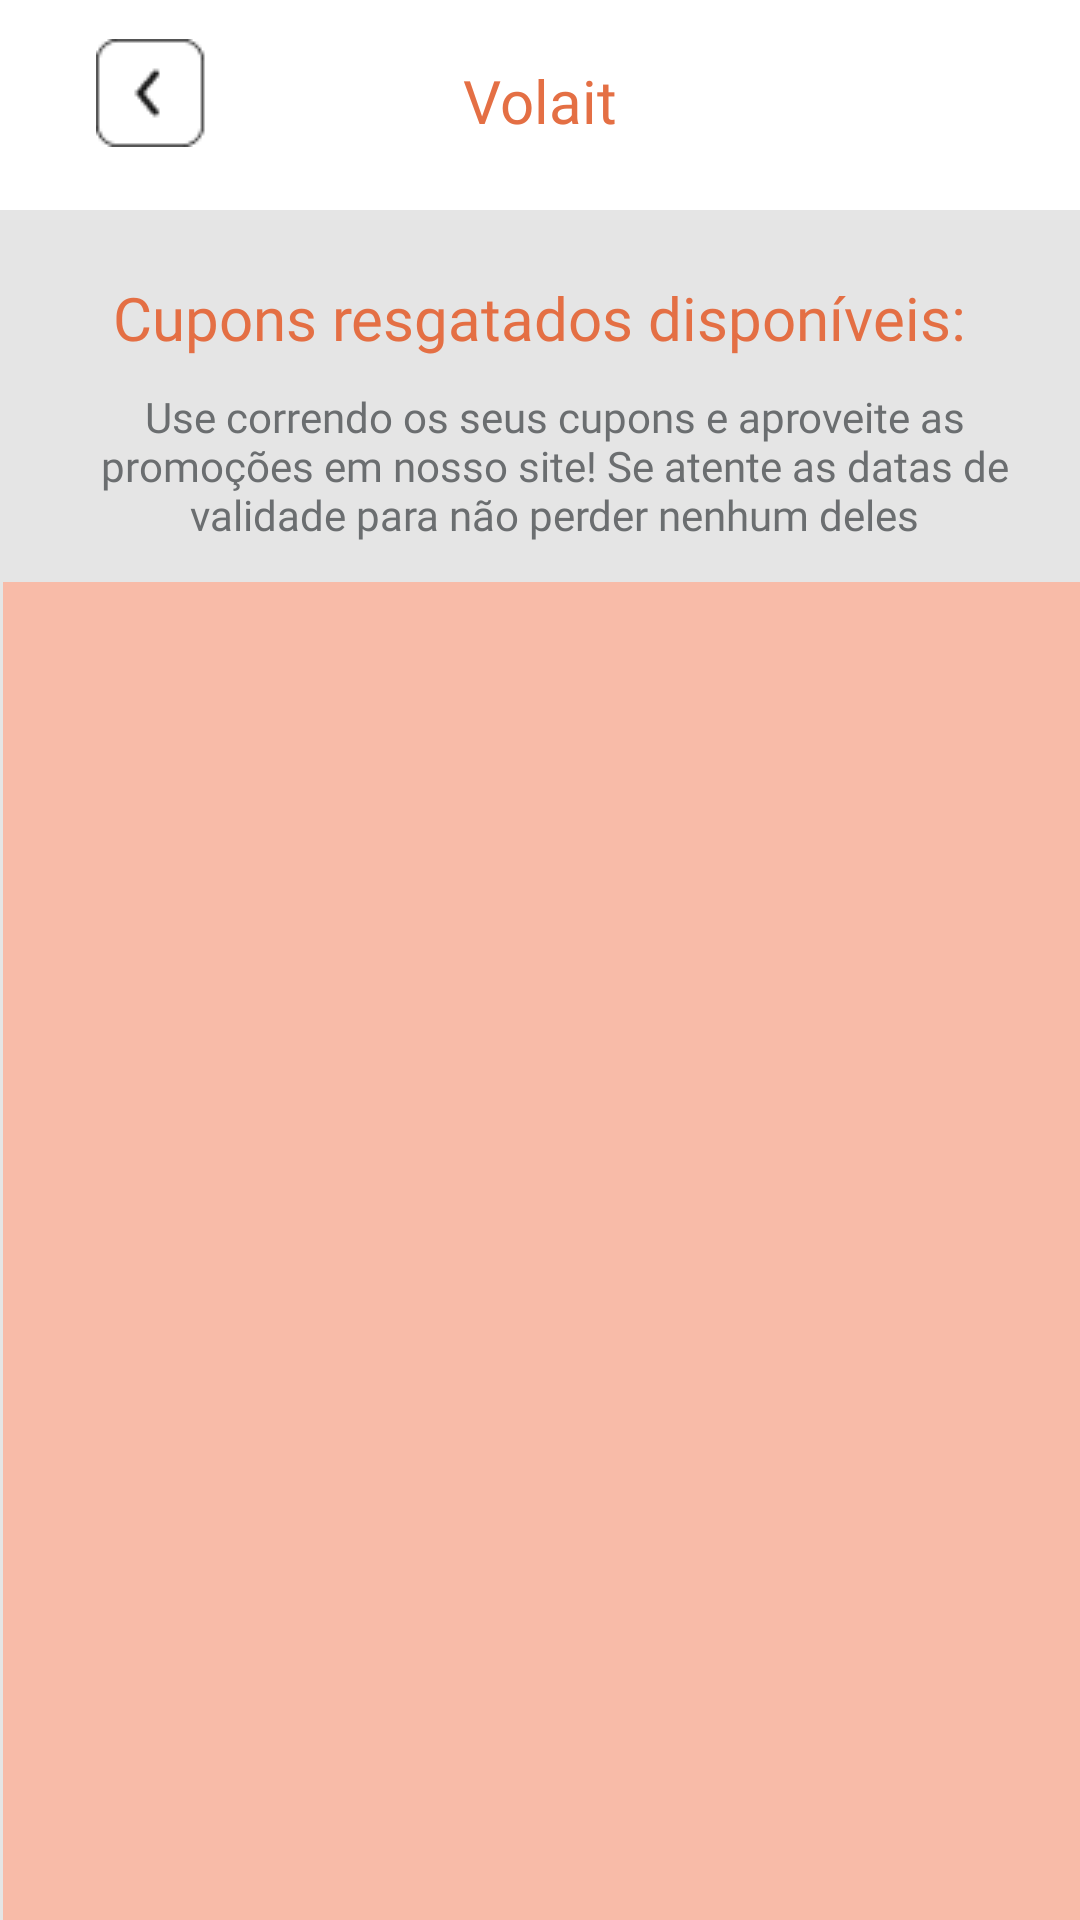

Where icons sit on this 1080 × 1920 app screen, as {"x1": x1, "y1": y1, "x2": x2, "y2": y2}:
setinha: {"x1": 96, "y1": 39, "x2": 205, "y2": 147}
